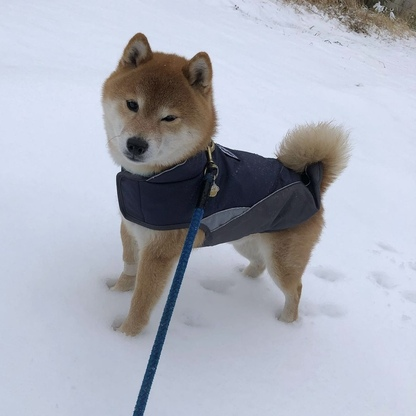shiba: (95, 26, 355, 341)
